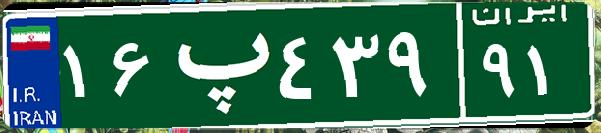1: (57, 26, 110, 107), (525, 38, 570, 115)
3: (330, 28, 385, 110)
4: (273, 28, 330, 110)
6: (110, 28, 158, 105)
9: (385, 28, 445, 110), (475, 38, 525, 113)
پ: (158, 15, 273, 115)
